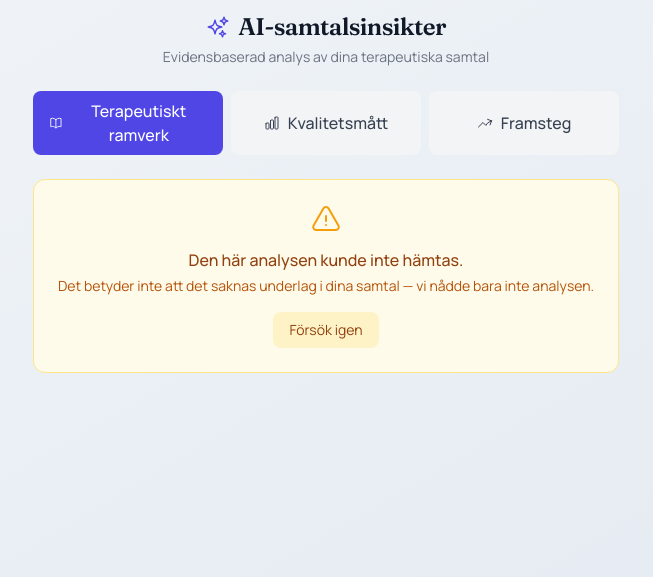
Test: AIChatInsights › keeps the tabs that did load usable when another one fails
Expected: the text "Den här analysen kunde inte hämtas." is shown, [189, 249, 463, 271]
Click the button "Kvalitetsmått" at (326, 123), box [231, 91, 421, 155]
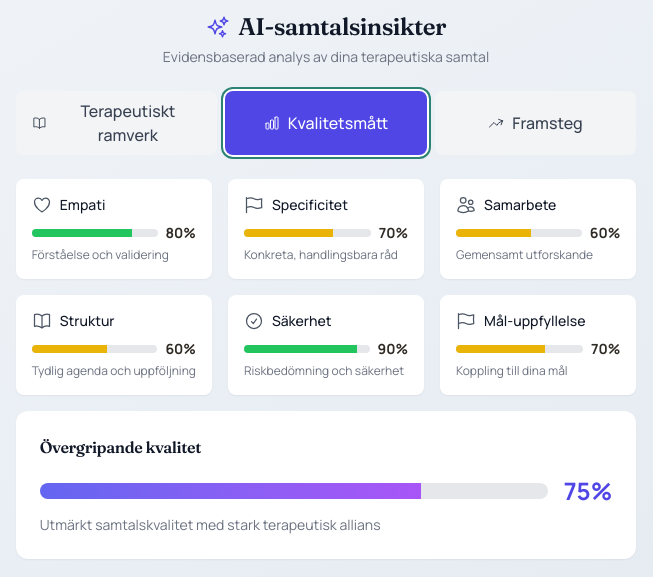
Expected: the heading "Övergripande kvalitet" is shown, [40, 437, 201, 457]
Expected: the text "Den här analysen kunde inte hämtas." is gone
